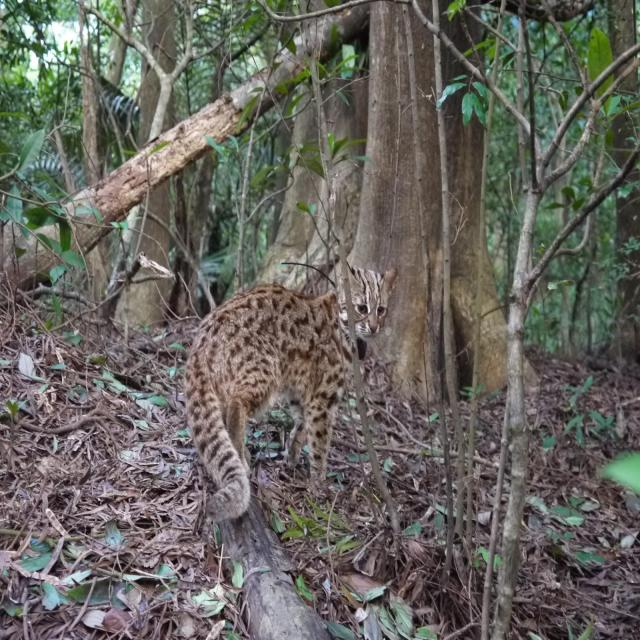leopard: (154, 222, 488, 599)
